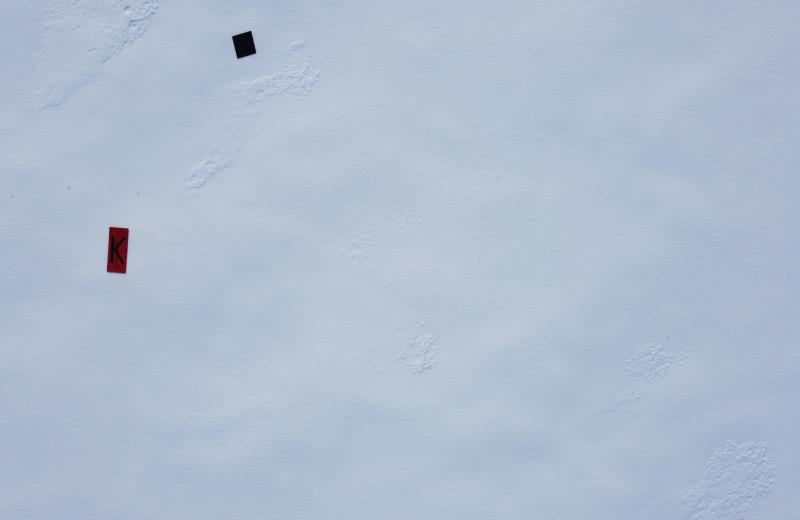Rectangle: (105, 225, 131, 276)
Square: (232, 29, 257, 61)
